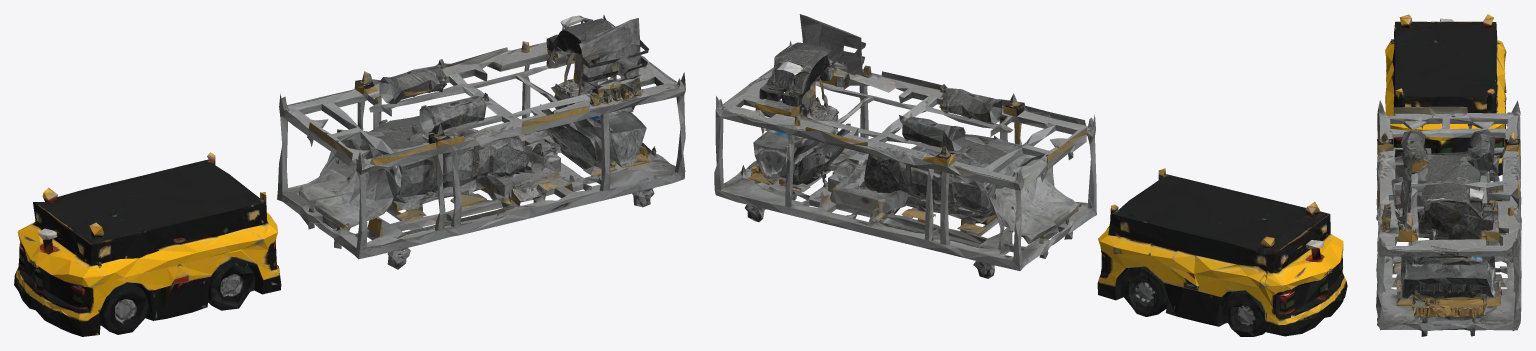
The model's file is agv.glb.
3 views of the same model, side by side, from view 1: azimuth 30°, elevation 25°; view 2: azimuth 150°, elevation 25°; view 3: azimuth 270°, elevation 25° (orthographic). The views are drawn at different scales.
Visible parts, largest first — view 1: d.obj; view 2: d.obj; view 3: d.obj.
Part boxes in pixels (box(x1,y1,x2,y2)): d.obj: box(14, 14, 685, 336); d.obj: box(714, 14, 1347, 336); d.obj: box(1376, 14, 1521, 336).
Size of the model in its own units: 1.89 by 0.5352 by 0.4494.
1 material, 1 textured.
